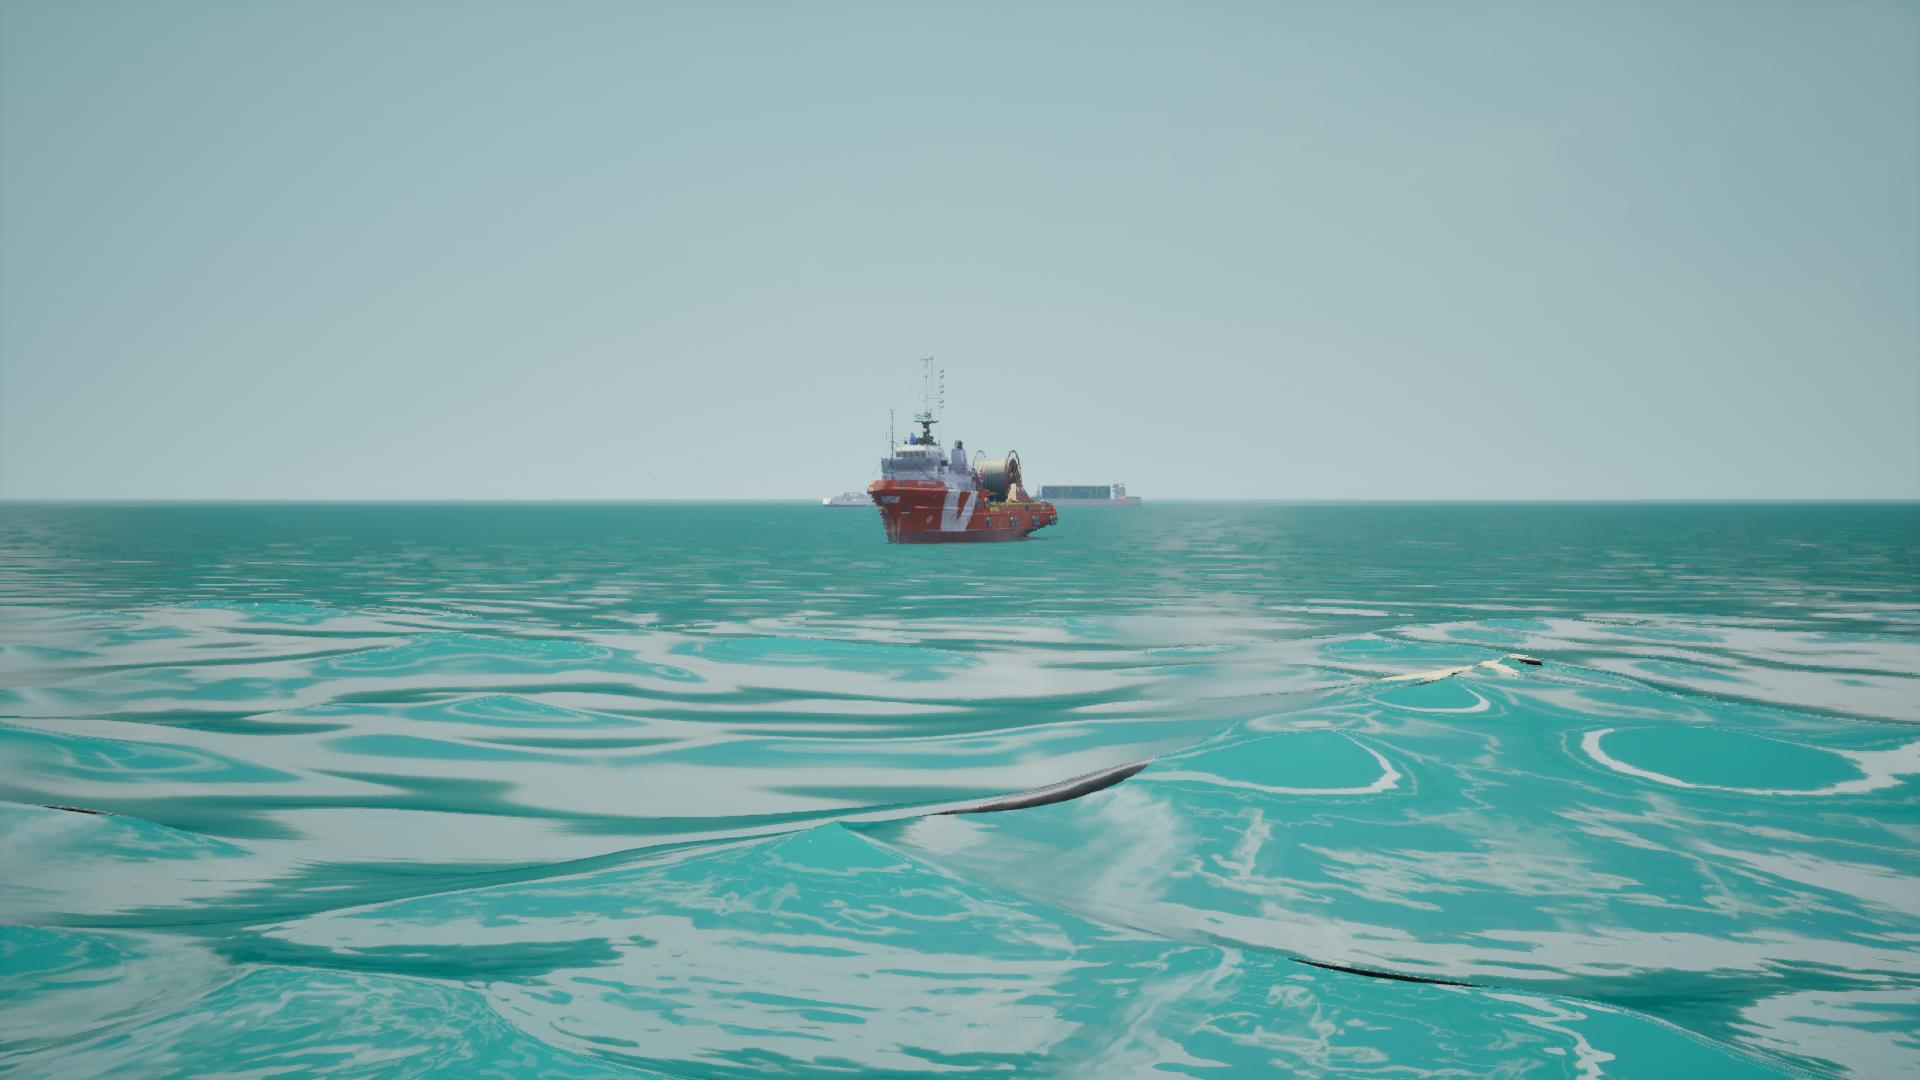Tug Boat: (844, 357, 1056, 549)
